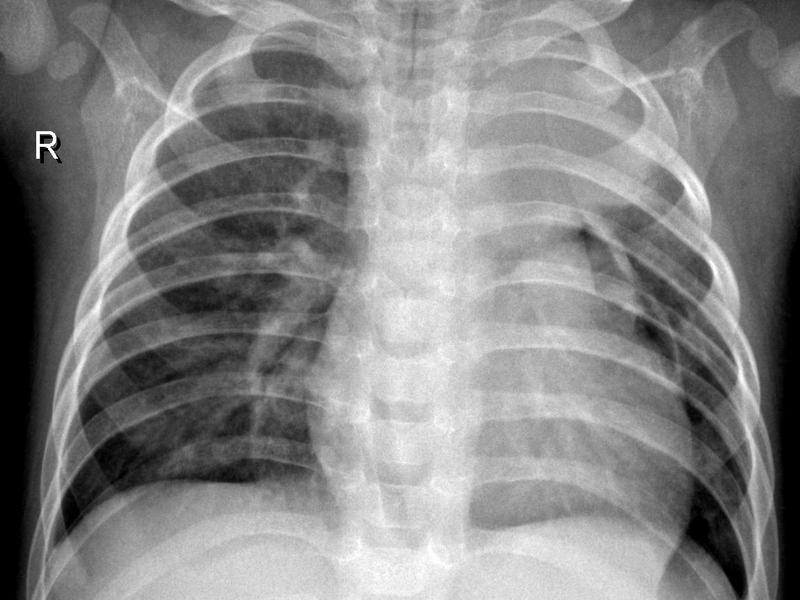PNEUMONIA: (226, 154, 313, 478), (598, 210, 723, 377), (95, 336, 221, 485)
